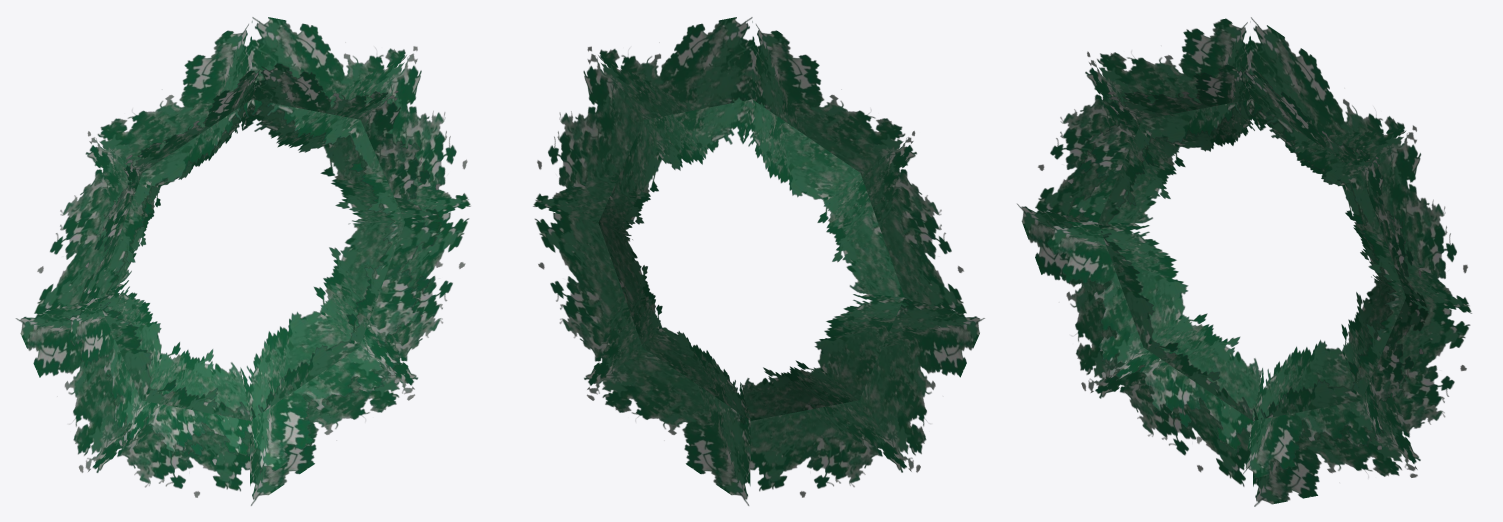
Rendered from wreath02.glb.
3 renders of one model, left to right at view 1: azimuth 30°, elevation 25°; view 2: azimuth 150°, elevation 25°; view 3: azimuth 330°, elevation 25°, orthographic.
Visible parts, largest first — view 1: Wreath02; view 2: Wreath02; view 3: Wreath02.
Part boxes in pixels (x1,y1,x2,y2): Wreath02: (16,17,470,505); Wreath02: (533,17,984,505); Wreath02: (1017,17,1471,506).
Size of the model in its own units: 1.58 by 1.58 by 0.1568.
Materials: 1 (1 with a texture image).
